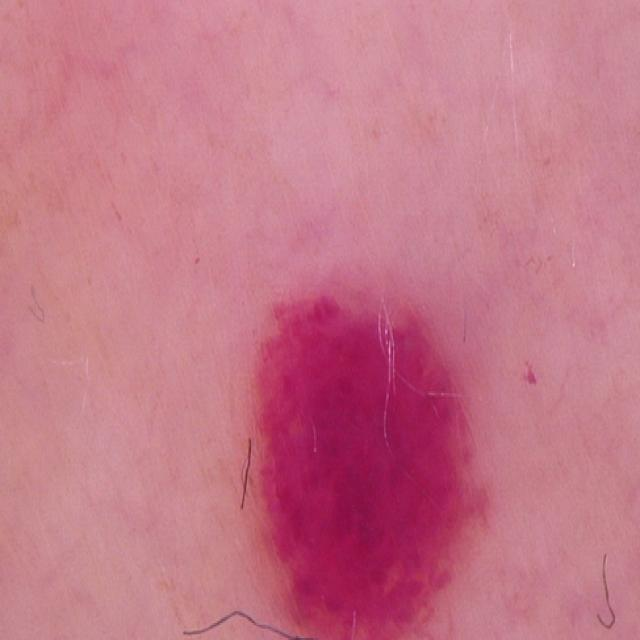Vascular Lesions: (219, 256, 518, 640)
